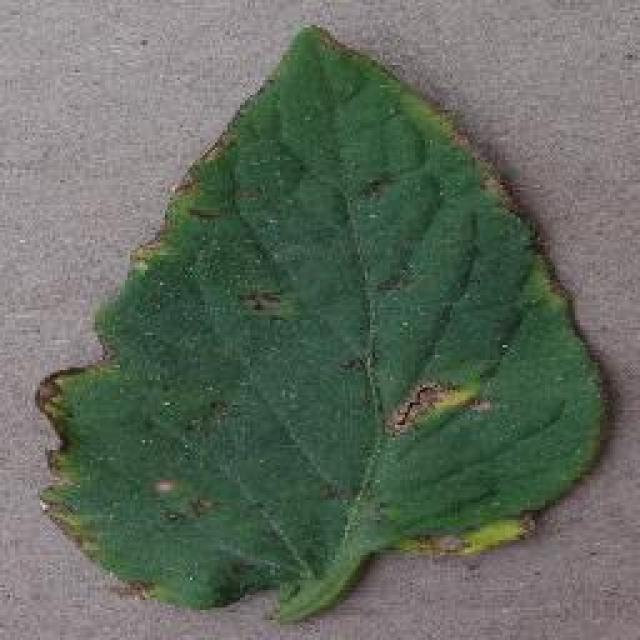Tomato bacterial spot leaf: (34, 13, 608, 615)
